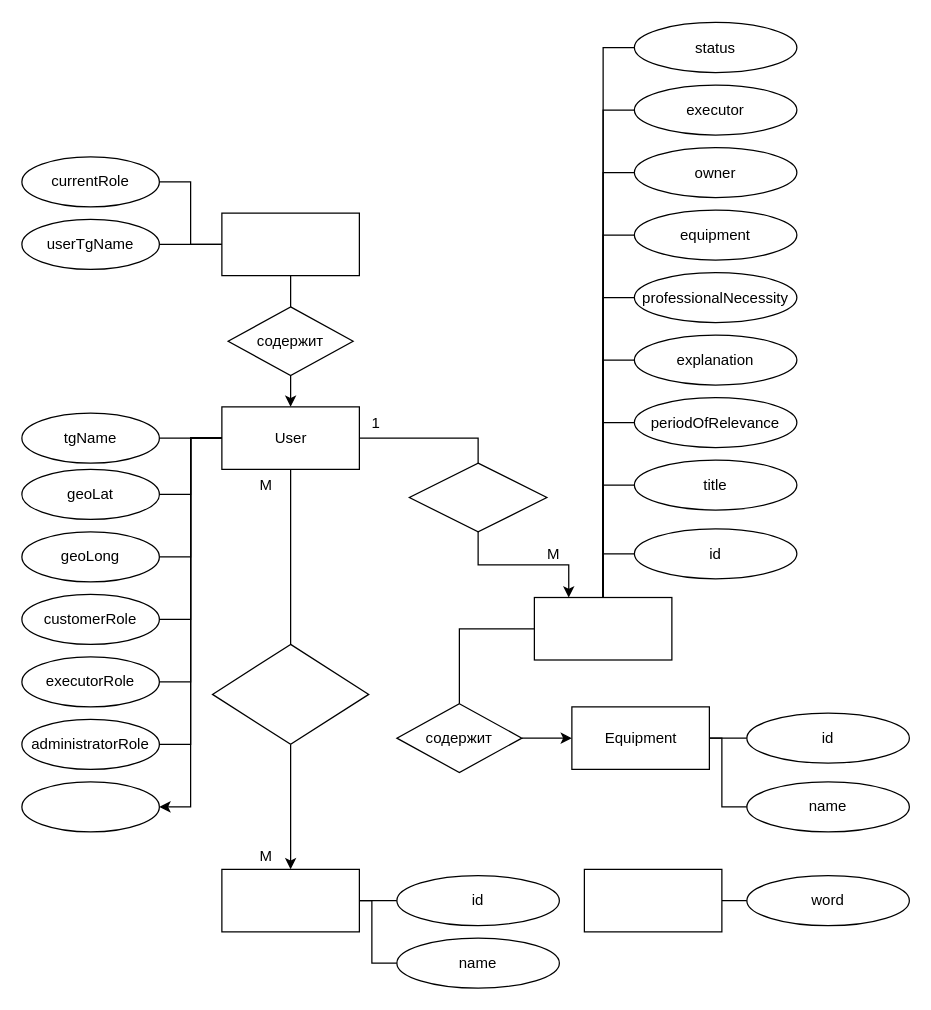
This 931x1010 diagram has some shape labels left out. Here are the shapes that lost their labels. From the top down, the centre of each, then its label:
the point at 290,244: Connection
the point at 477,497: создает, исполняет
the point at 602,628: Request
the point at 290,693: имеет навык
the point at 90,806: adminVerified
the point at 290,900: Skill
the point at 652,900: Ban
